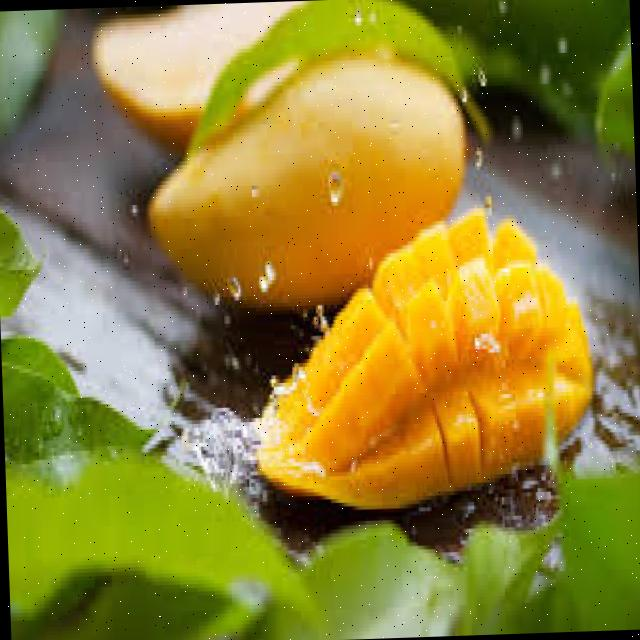mango: (255, 208, 594, 517)
